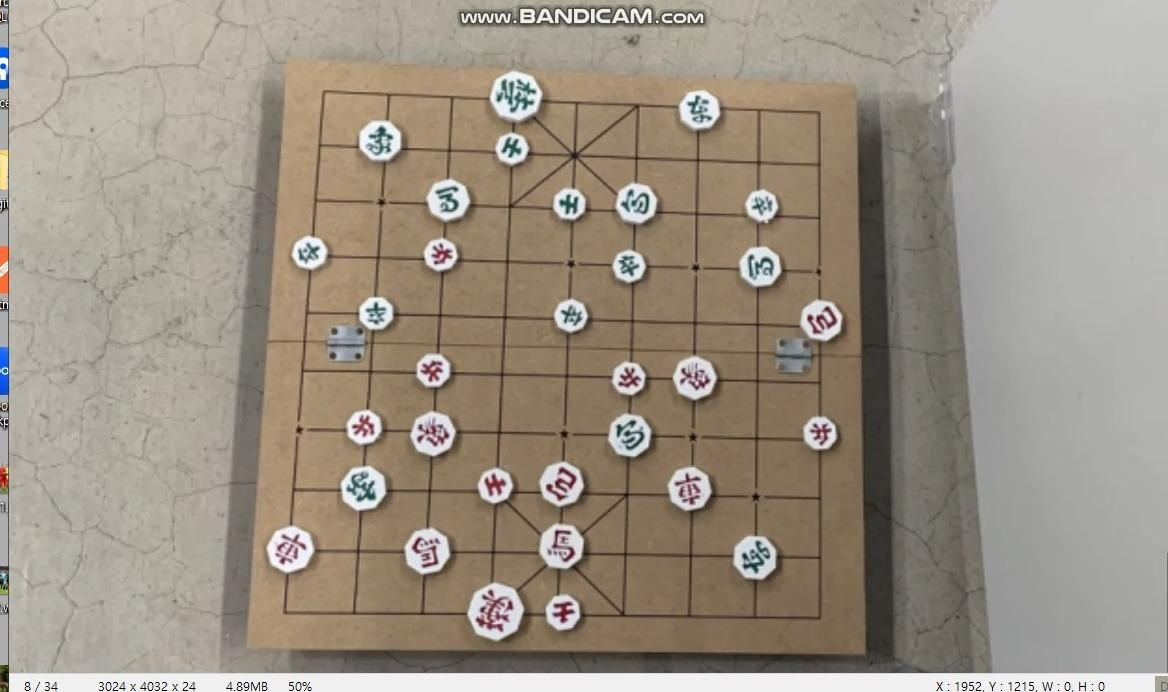cha_green: (732, 536, 779, 579), (677, 91, 720, 130)
cha_red: (264, 529, 314, 572), (666, 468, 712, 509)
jol_green: (554, 300, 590, 335), (358, 298, 396, 330), (291, 238, 330, 269), (610, 252, 647, 283), (745, 191, 780, 223)
jol_red: (346, 411, 385, 444), (801, 417, 839, 450), (611, 362, 648, 395), (415, 355, 452, 387), (422, 239, 458, 270)
ma_green: (426, 181, 472, 221), (738, 248, 782, 288)
ma_red: (537, 525, 586, 568), (403, 531, 451, 574)
po_green: (607, 416, 654, 458), (615, 185, 658, 223)
po_red: (539, 464, 586, 506), (799, 300, 844, 340)
sa_green: (552, 188, 587, 220), (495, 134, 530, 165)
sa_red: (477, 469, 516, 504), (543, 596, 583, 629)
sang_green: (339, 466, 388, 509), (359, 119, 402, 159)
sang_red: (409, 414, 456, 455), (673, 358, 718, 399)
wang_green: (490, 73, 542, 120)
wang_red: (468, 588, 526, 640)
